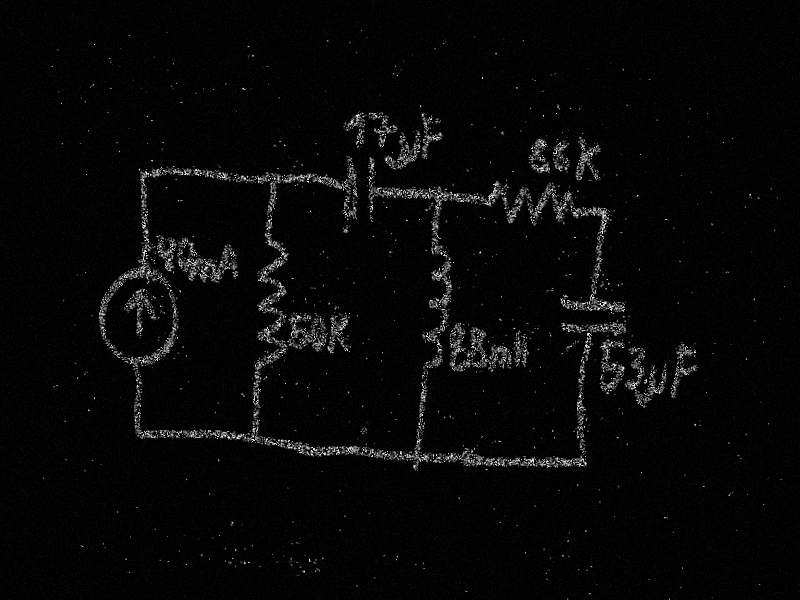0: (177, 236, 195, 275), (309, 316, 328, 352)
1: (340, 107, 367, 154)
3: (624, 345, 646, 392)
4: (155, 233, 177, 275)
5: (597, 339, 626, 396), (288, 310, 311, 351)
6: (551, 138, 572, 174)
7: (366, 110, 398, 151)
8: (447, 321, 473, 375), (527, 137, 551, 176), (468, 326, 488, 372)
A: (217, 241, 240, 285)
F: (670, 342, 700, 399), (419, 114, 445, 163)
H: (513, 331, 530, 370)
k: (576, 134, 602, 184), (327, 313, 351, 356)
m: (190, 257, 217, 284), (488, 345, 514, 371)
u: (396, 130, 421, 173), (645, 363, 669, 402)
